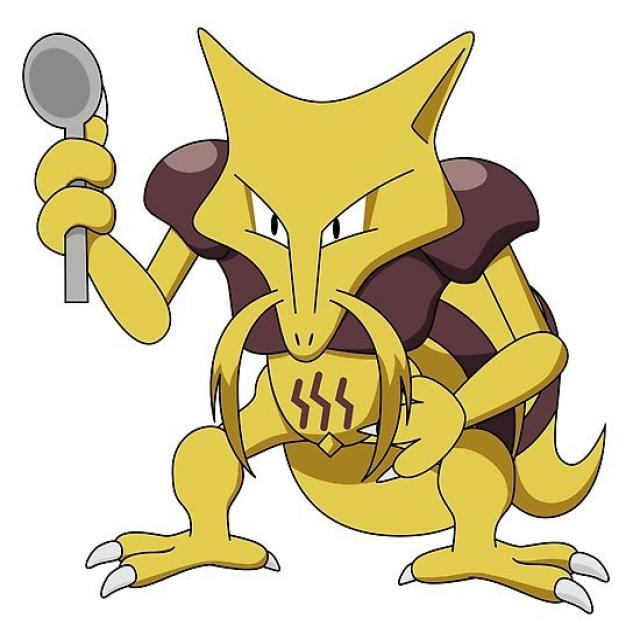Kadabra: (24, 31, 570, 580)
